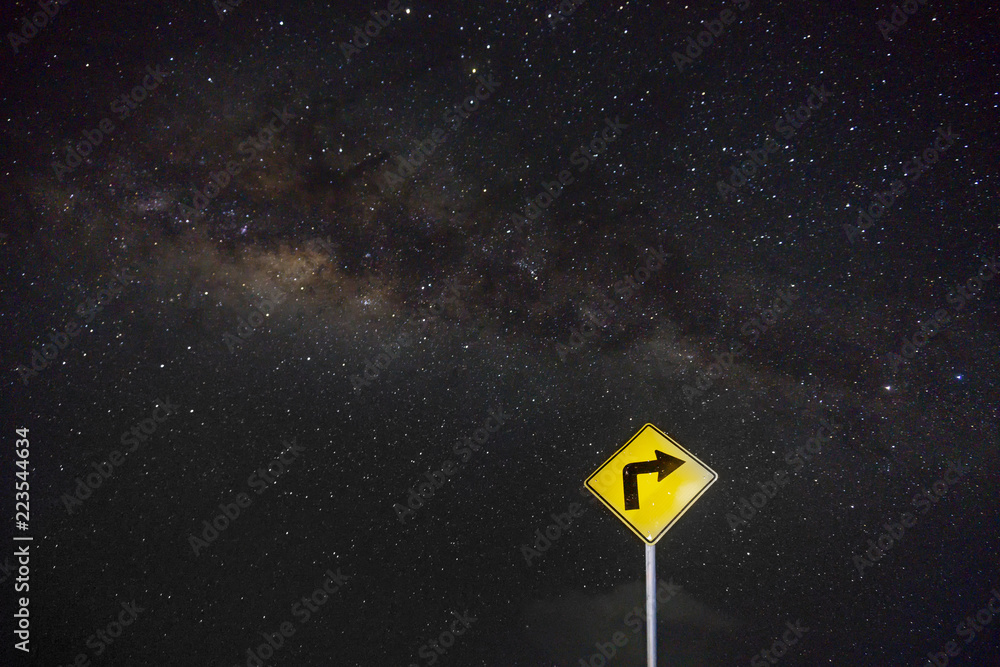right turn: (583, 423, 716, 546)
